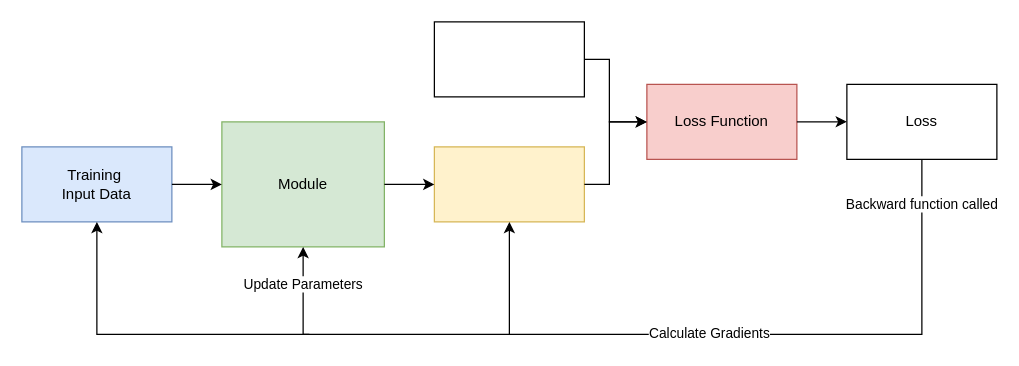
The diagram is 1019 pixels wide and 366 high, and some of its shapes have lost their labels. Here are the shapes that lost their labels. From the top down, the centre of each, then its label:
At (x=508, y=59): "True Output Data".
At (x=508, y=184): "Module Predictions Output Data".
